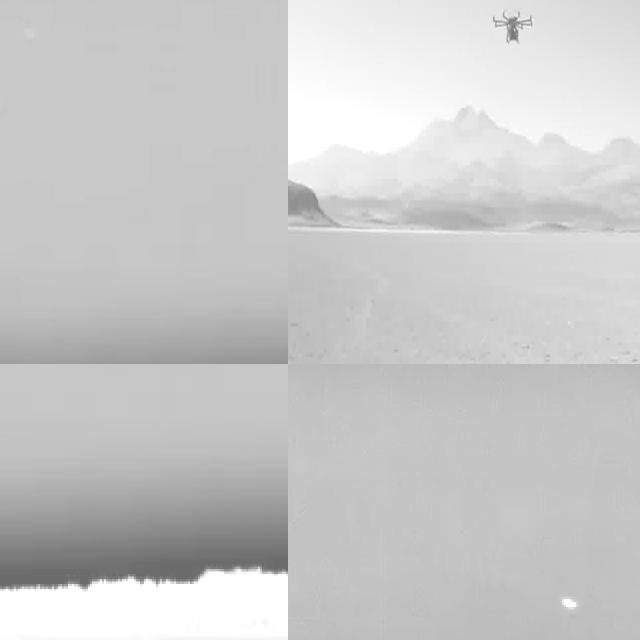0: (17, 20, 41, 46), (0, 95, 5, 122)
1: (549, 591, 585, 621)
drone: (492, 1, 534, 46)
